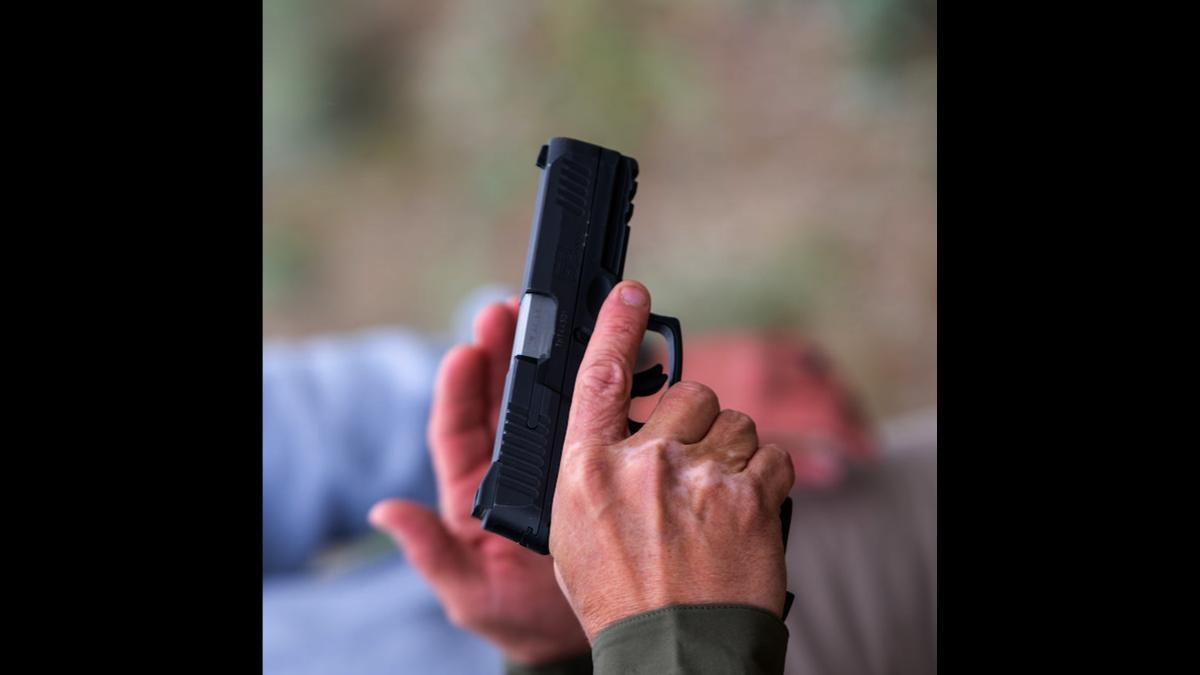gun: (467, 124, 762, 564)
